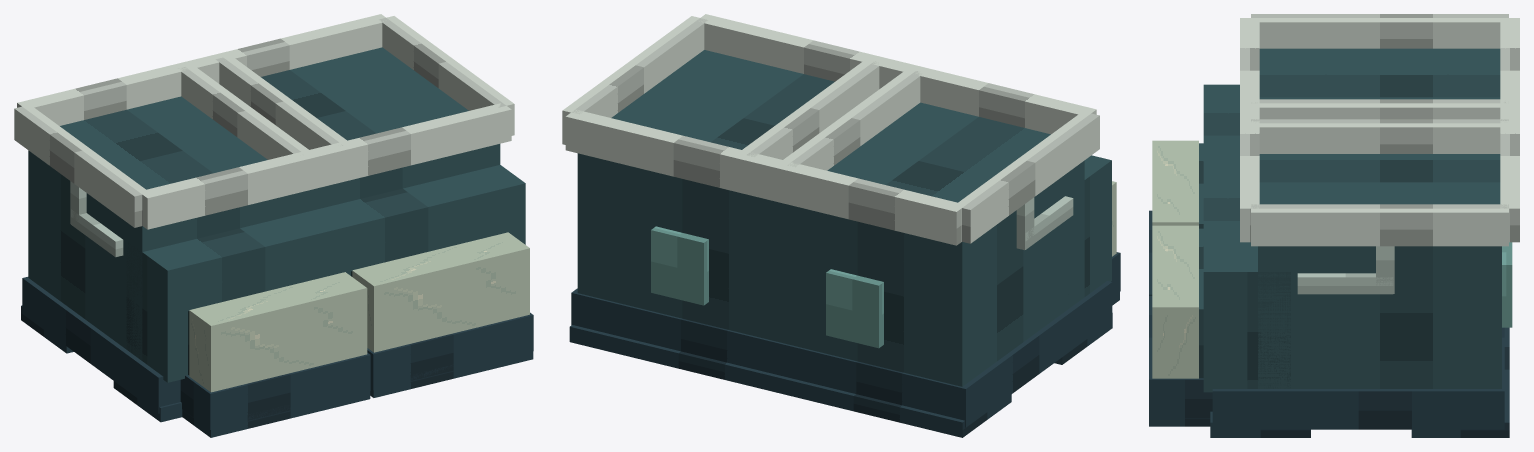
Rendered from huashen_taixu_boots.obj.
3 views of the same model, side by side, from view 1: azimuth 30°, elevation 25°; view 2: azimuth 150°, elevation 25°; view 3: azimuth 270°, elevation 25° (orthographic). The views are drawn at different scales.
Visible parts, largest first — view 1: boot_shaft_-1, boot_instep_-1, boot_toe_cap_-1, boot_shaft_1, boot_toe_cap_1, boot_instep_1, boot_cuff_front_-1, boot_cuff_front_1, boot_toe_welt_-1, boot_welt_-1, boot_cuff_side_-1_-1, boot_toe_welt_1 (+10 smaller); view 2: boot_shaft_-1, boot_shaft_1, boot_welt_-1, boot_cuff_back_-1, boot_cuff_back_1, boot_cuff_side_-1_-1, boot_welt_1, boot_cuff_front_1, boot_cuff_front_-1, boot_cuff_side_1_1, boot_cuff_side_-1_1, boot_cuff_side_1_-1 (+7 smaller); view 3: boot_shaft_1, boot_instep_1, boot_shaft_-1, boot_welt_1, boot_cuff_side_1_1, boot_cuff_side_-1_-1, boot_cuff_side_1_-1, boot_toe_cap_1, boot_cuff_side_-1_1, boot_toe_cap_-1, boot_instep_-1, boot_toe_welt_1 (+12 smaller).
Part boxes in pixels (left/top/right/bottom): boot_shaft_-1: left=28, top=96, right=337, bottom=360; boot_instep_-1: left=126, top=204, right=362, bottom=382; boot_toe_cap_-1: left=189, top=272, right=367, bottom=392; boot_shaft_1: left=261, top=47, right=500, bottom=211; boot_toe_cap_1: left=352, top=232, right=529, bottom=352; boot_instep_1: left=306, top=165, right=525, bottom=275; boot_cuff_front_-1: left=140, top=142, right=348, bottom=229; boot_cuff_front_1: left=302, top=103, right=511, bottom=189; boot_toe_welt_-1: left=180, top=352, right=370, bottom=429; boot_welt_-1: left=22, top=277, right=180, bottom=413; boot_cuff_side_-1_-1: left=14, top=105, right=148, bottom=227; boot_toe_welt_1: left=367, top=312, right=533, bottom=389; boot_shaft_-1: left=752, top=102, right=1084, bottom=386; boot_shaft_1: left=577, top=50, right=834, bottom=343; boot_welt_-1: left=746, top=281, right=1112, bottom=427; boot_cuff_back_-1: left=740, top=152, right=963, bottom=245; boot_cuff_back_1: left=565, top=109, right=787, bottom=202; boot_cuff_side_-1_-1: left=954, top=111, right=1099, bottom=243; boot_welt_1: left=571, top=288, right=791, bottom=369; boot_cuff_front_1: left=699, top=14, right=916, bottom=88; boot_cuff_front_-1: left=876, top=57, right=1096, bottom=134; boot_cuff_side_1_1: left=562, top=16, right=707, bottom=144; boot_cuff_side_-1_1: left=779, top=68, right=921, bottom=170; boot_cuff_side_1_-1: left=738, top=58, right=879, bottom=159; boot_shaft_1: left=1258, top=154, right=1501, bottom=388; boot_instep_1: left=1203, top=178, right=1290, bottom=392; boot_shaft_-1: left=1259, top=48, right=1500, bottom=99; boot_welt_1: left=1212, top=327, right=1504, bottom=429; boot_cuff_side_1_1: left=1251, top=204, right=1508, bottom=246; boot_cuff_side_-1_-1: left=1251, top=14, right=1508, bottom=48; boot_cuff_side_1_-1: left=1251, top=119, right=1508, bottom=153; boot_toe_cap_1: left=1152, top=225, right=1198, bottom=378; boot_cuff_side_-1_1: left=1251, top=99, right=1508, bottom=119; boot_toe_cap_-1: left=1152, top=140, right=1198, bottom=225; boot_instep_-1: left=1203, top=84, right=1239, bottom=186; boot_toe_welt_1: left=1149, top=296, right=1212, bottom=418.
Bounding box in the file's own units: 0.5537 × 0.2975 × 0.4366.
